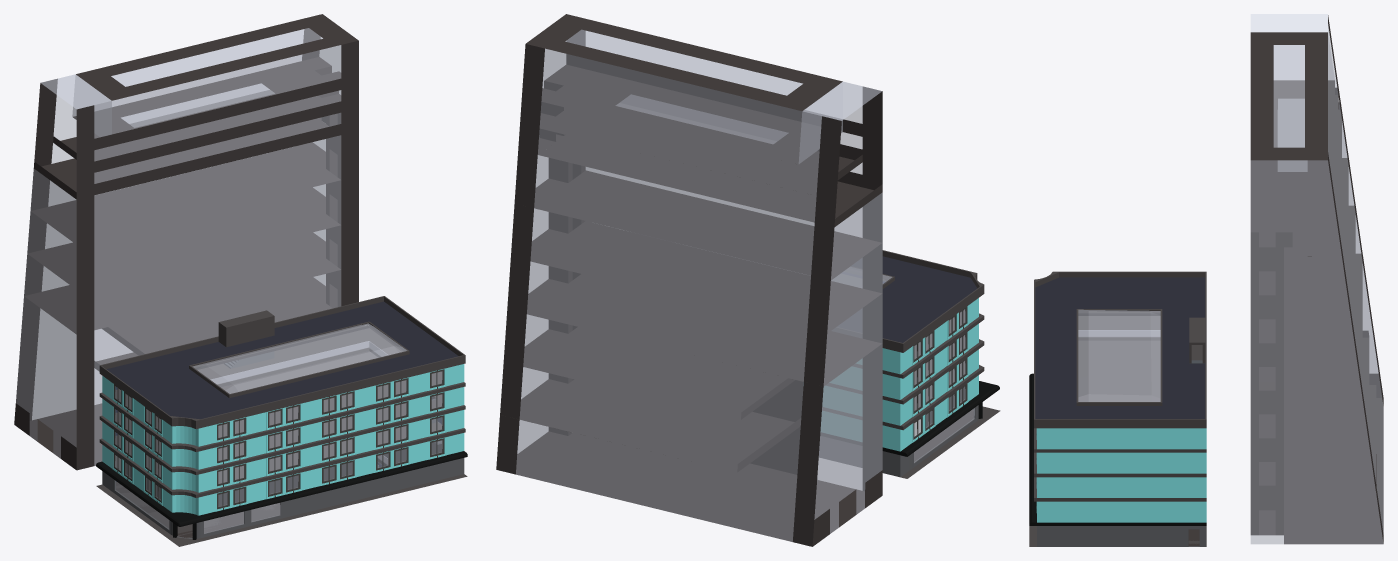
File: dragonlairmodeskyscraperl.glb
The picture shows the model from 3 angles, left to right: view 1: azimuth 30°, elevation 25°; view 2: azimuth 150°, elevation 25°; view 3: azimuth 270°, elevation 25°; orthographic projection. The views are drawn at different scales.
Visible parts, largest first — view 1: building2, 5thfloorcieling, Plane.025, 4thfloorcieling, 4thfloor.001, 3rd floor, 4thfloor, 2ndfloor, 1stfloor, 3rdfloorcieling, 1st floor cieling, 2ndfloorcieling (+3 smaller); view 2: building2, 5thfloorcieling, 2ndfloor, 3rd floor, 1stfloor, 4thfloor, 4thfloor.001, 1st floor cieling, 2ndfloorcieling, 3rdfloorcieling, 4thfloorcieling, ground (+1 smaller); view 3: building2, 5thfloorcieling, Plane.025, 3rdfloorcieling, 4thfloor.001, 2ndfloor, 4thfloor, 3rd floor, 1stfloor, 4thfloorcieling, 1st floor cieling, 2ndfloorcieling (+1 smaller).
Boxes of the visible parts, x1,y1,x2,y2 form: building2: [14, 14, 358, 470]; 5thfloorcieling: [99, 296, 465, 429]; Plane.025: [192, 323, 406, 393]; 4thfloorcieling: [99, 328, 465, 451]; 4thfloor.001: [102, 364, 464, 446]; 3rd floor: [102, 398, 464, 492]; 4thfloor: [102, 387, 464, 469]; 2ndfloor: [102, 417, 464, 515]; 1stfloor: [102, 458, 464, 538]; 3rdfloorcieling: [99, 351, 465, 474]; 1st floor cieling: [96, 442, 467, 526]; 2ndfloorcieling: [99, 422, 465, 497]; building2: [496, 14, 882, 546]; 5thfloorcieling: [832, 250, 984, 352]; 2ndfloor: [821, 375, 978, 451]; 3rd floor: [822, 349, 978, 425]; 1stfloor: [819, 405, 978, 477]; 4thfloor: [830, 323, 978, 399]; 4thfloor.001: [856, 281, 978, 374]; 1st floor cieling: [820, 381, 999, 456]; 2ndfloorcieling: [822, 361, 984, 430]; 3rdfloorcieling: [826, 335, 984, 404]; 4thfloorcieling: [853, 309, 984, 378]; ground: [888, 406, 1000, 478]; building2: [1250, 14, 1383, 544]; 5thfloorcieling: [1034, 271, 1206, 428]; Plane.025: [1078, 309, 1160, 401]; 3rdfloorcieling: [1034, 340, 1206, 477]; 4thfloor.001: [1036, 428, 1206, 449]; 2ndfloor: [1036, 501, 1206, 522]; 4thfloor: [1036, 452, 1206, 473]; 3rd floor: [1036, 477, 1206, 497]; 1stfloor: [1037, 526, 1206, 546]; 4thfloorcieling: [1034, 316, 1206, 452]; 1st floor cieling: [1029, 373, 1206, 525]; 2ndfloorcieling: [1034, 477, 1206, 501].
Size of what is drawn, in the model's own units: 46 by 55.03 by 45.98.
